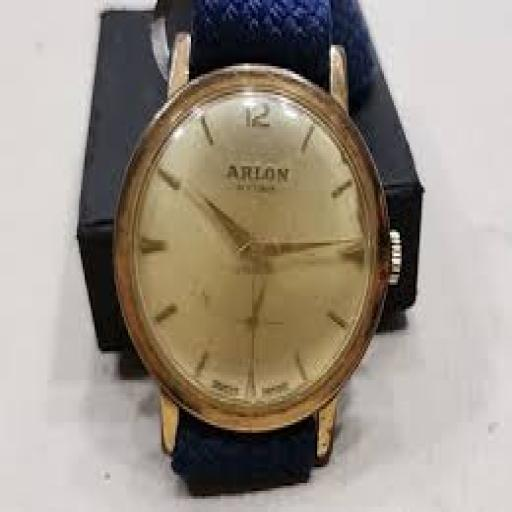KolSaati: (81, 2, 449, 512)
